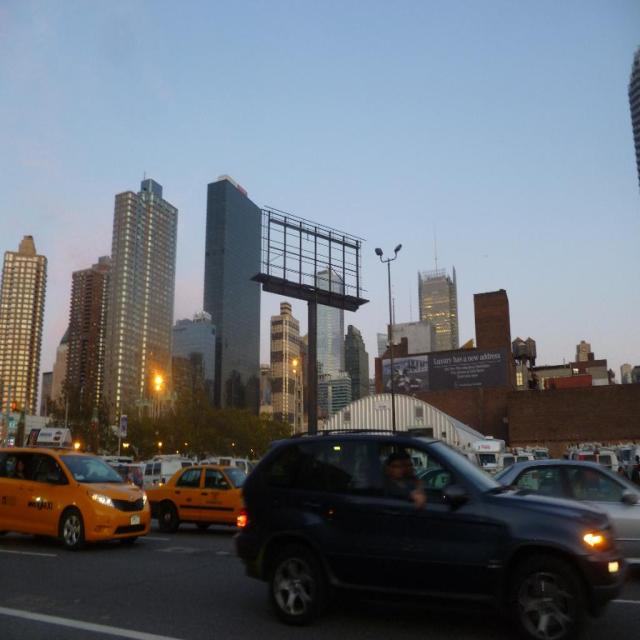car: (232, 427, 630, 638)
